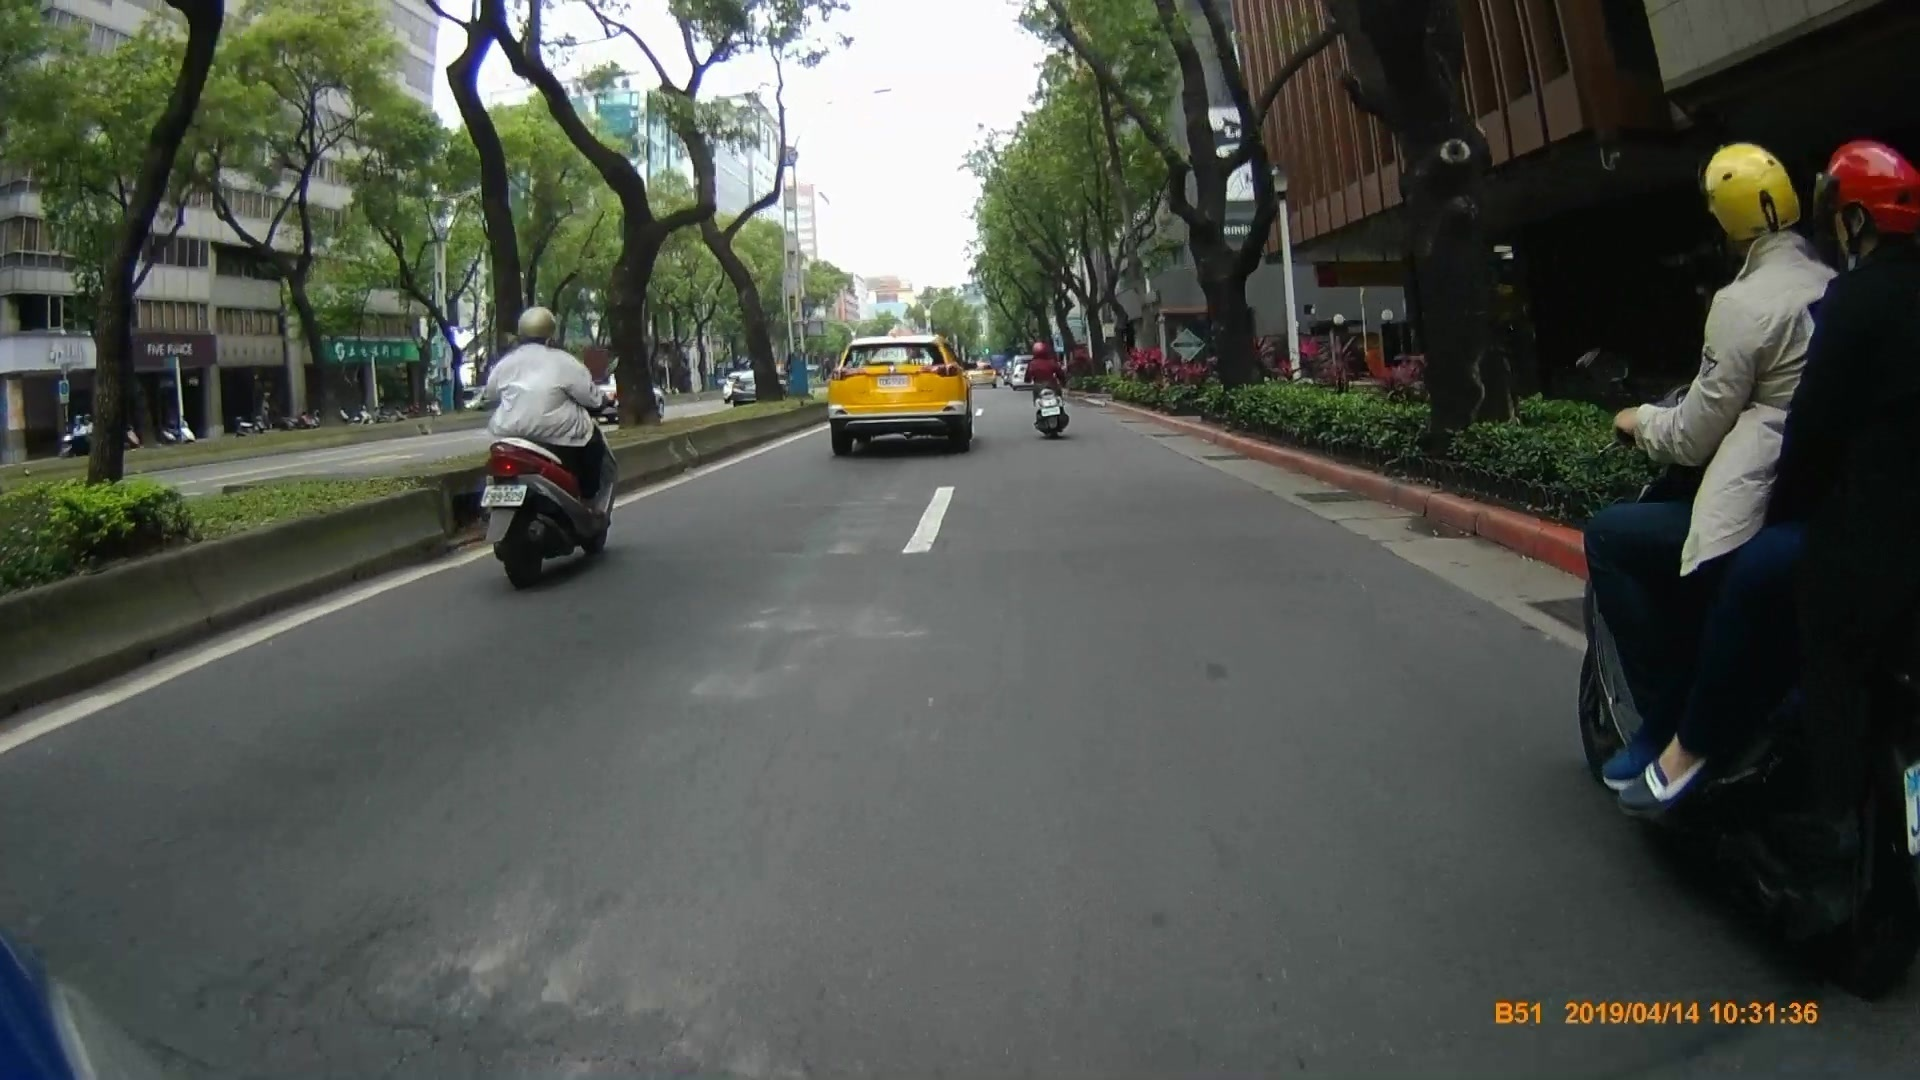License_plate: (480, 482, 528, 508), (874, 372, 912, 391)
